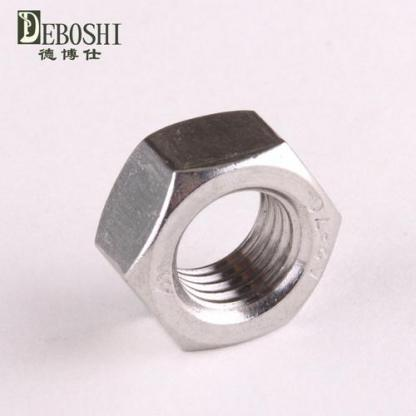FOD: (91, 102, 344, 356)
